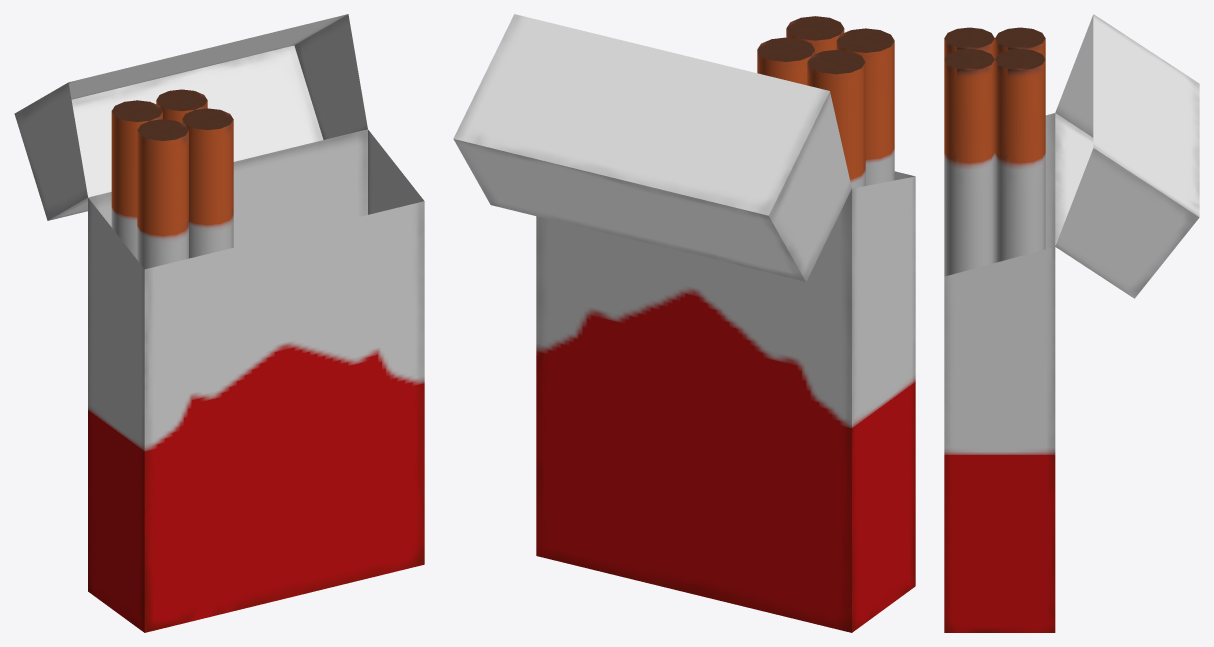
File: CigaretteBox_3.fbx
The picture shows the model from 3 angles, left to right: view 1: azimuth 30°, elevation 25°; view 2: azimuth 150°, elevation 25°; view 3: azimuth 270°, elevation 25°; orthographic projection. The views are drawn at different scales.
Visible parts, largest first — view 1: CigaretteBox_3; view 2: CigaretteBox_3; view 3: CigaretteBox_3.
Boxes of the visible parts, x1,y1,x2,y2 form: CigaretteBox_3: [14, 14, 424, 632]; CigaretteBox_3: [453, 14, 915, 632]; CigaretteBox_3: [944, 14, 1199, 632].
Bounding box in the file's own units: 0.0508 × 0.0859 × 0.0409.
